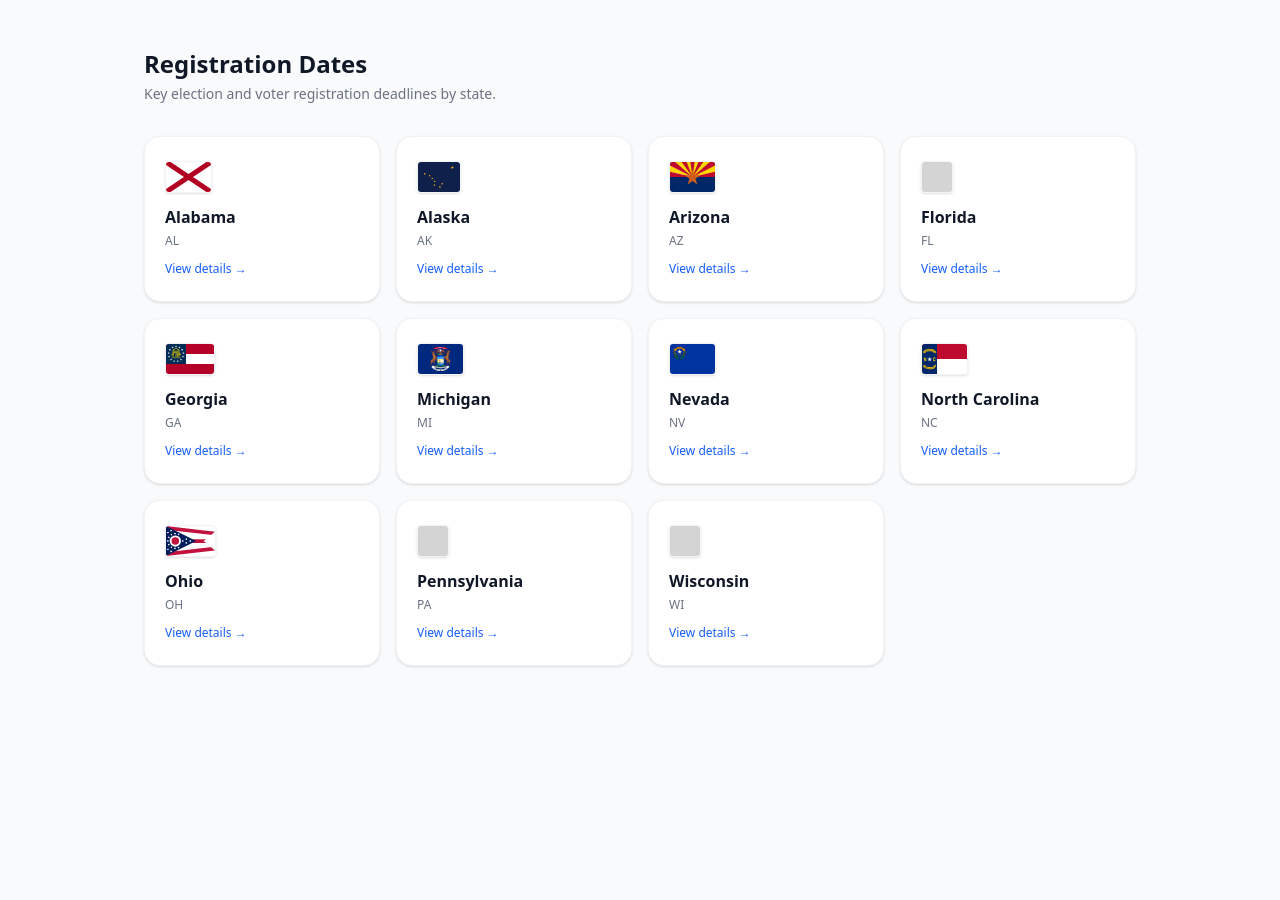
RegistrationDatesPage › opens a state modal and shows its scraped data
The image size is (1280, 900).
Click the text "Pennsylvania" at (470, 581), box x1=417 y1=570 x2=523 y2=592
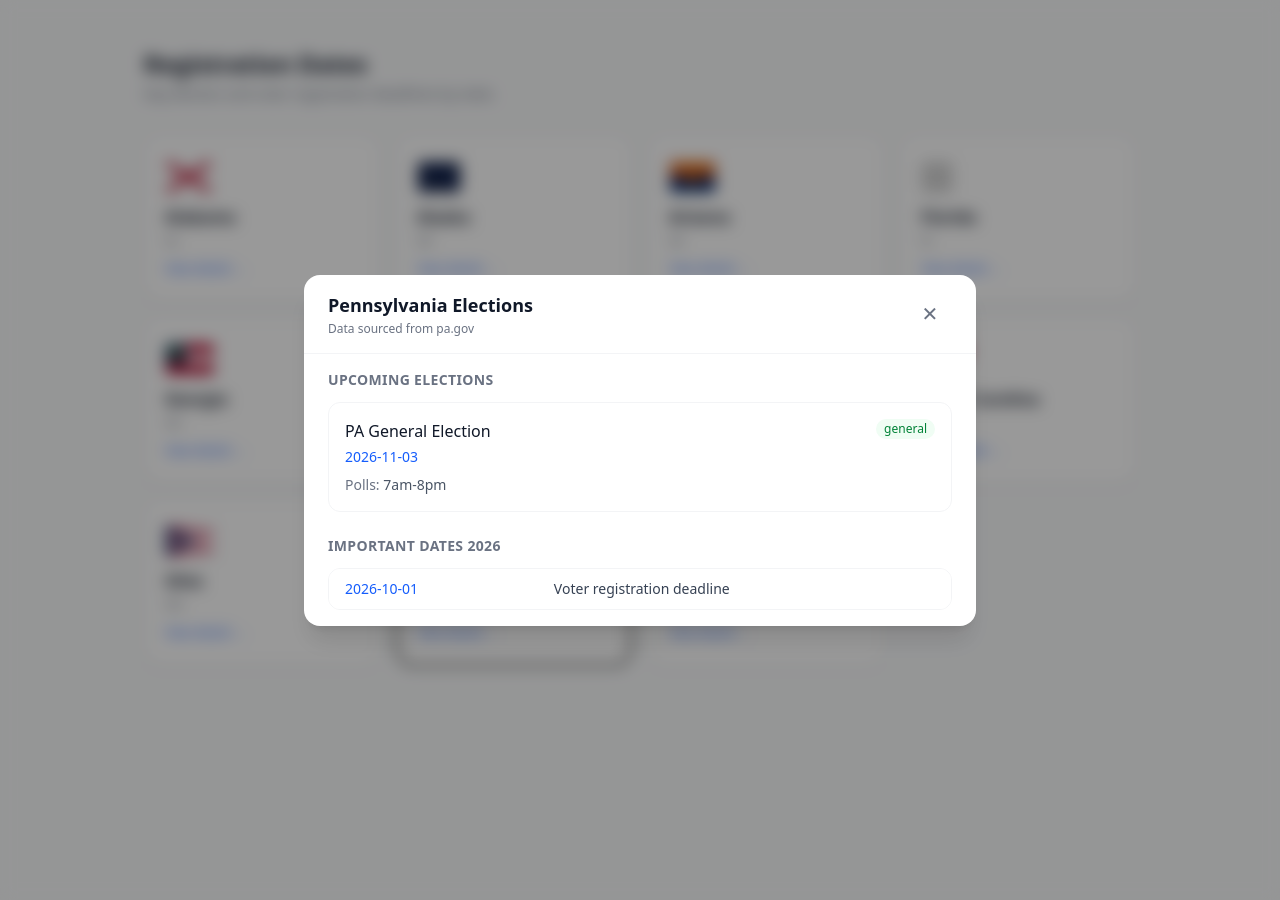
Result: the text "PA General Election" is shown at x1=345 y1=418 x2=491 y2=442
Result: the text "Voter registration deadline" is shown at x1=538 y1=568 x2=951 y2=608
Result: the text "Data sourced from pa.gov" is shown at x1=328 y1=320 x2=474 y2=336
